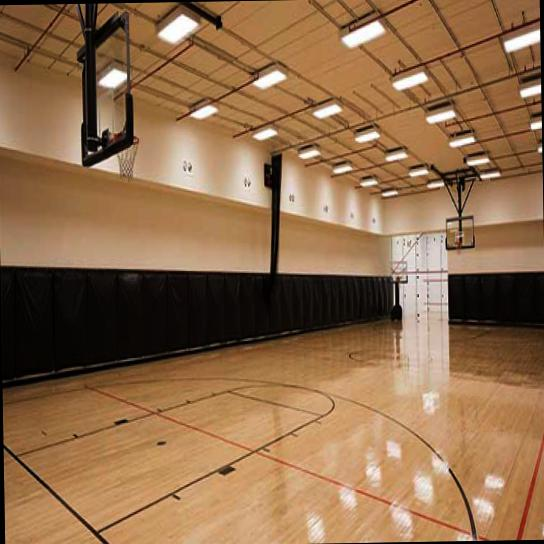basketball-hoop: (112, 131, 139, 184), (454, 238, 462, 255)
